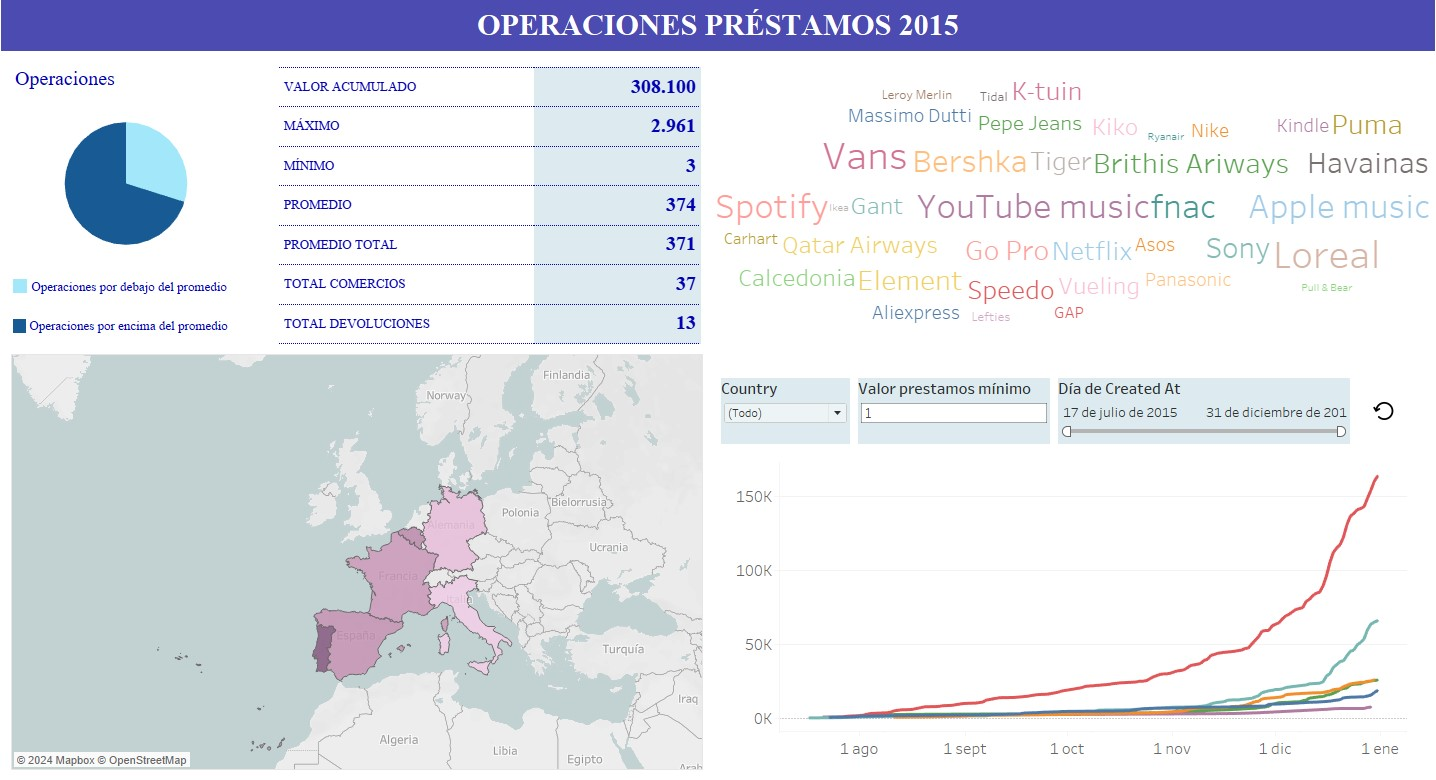

The page's visual inventory and layout, read from the dashboard file:
{"tool":"tableau","page":{"name":"Dashboard 2","canvas":[1450,800],"ordinal":1},"visuals":[{"type":"text","box":[9,3,1434,51]},{"type":"worksheet","title":"Comercios","mark":"Text","box":[723,61,716,294]},{"type":"worksheet","title":"Desviación-2","mark":"Pie","box":[20,67,228,201]},{"type":"worksheet","title":"KPIs-2","mark":"Automatic","box":[286,70,423,277]},{"type":"text","box":[36,275,217,30]},{"type":"image","param":"Image/dsv.1.png","box":[21,282,14,14]},{"type":"text","box":[34,314,206,30]},{"type":"image","param":"Image/dsv.2.png","box":[21,322,13,14]},{"type":"worksheet","title":"Mapa-2","mark":"Automatic","box":[19,357,692,416]},{"type":"filter","title":"Comercios","param":"[federated.165jlwq01z7vf71dgarbk1vjn3kl].[none:country:nk]","box":[725,377,137,74]},{"type":"parameter","param":"[Parameters].[Parámetro 1]","box":[862,377,200,74]},{"type":"filter","title":"Comercios","param":"[federated.165jlwq01z7vf71dgarbk1vjn3kl].[tdy:created_at:qk]","box":[1062,377,300,74]},{"type":"worksheet","title":"Reset Filter-2","mark":"Shape","box":[1360,387,50,53]},{"type":"worksheet","title":"Áreas-2","mark":"Line","cols":["created_at"],"box":[743,465,672,299]}]}

Visuals, with their boxes in screenshot pixels (x1, y1, x2, y2), scaled from the page's 1450x800 canvas onto the 1436x780 screenshot:
text: l=9, t=3, r=1429, b=53
"Comercios" worksheet (Text marks): l=716, t=59, r=1425, b=346
"Desviación-2" worksheet (Pie marks): l=20, t=65, r=246, b=261
"KPIs-2" worksheet: l=283, t=68, r=702, b=338
text: l=36, t=268, r=251, b=297
image: l=21, t=275, r=35, b=289
text: l=34, t=306, r=238, b=335
image: l=21, t=314, r=34, b=328
"Mapa-2" worksheet: l=19, t=348, r=704, b=754
"Comercios" filter: l=718, t=368, r=854, b=440
parameter: l=854, t=368, r=1052, b=440
"Comercios" filter: l=1052, t=368, r=1349, b=440
"Reset Filter-2" worksheet (Shape marks): l=1347, t=377, r=1396, b=429
"Áreas-2" worksheet (Line marks): l=736, t=453, r=1401, b=745
